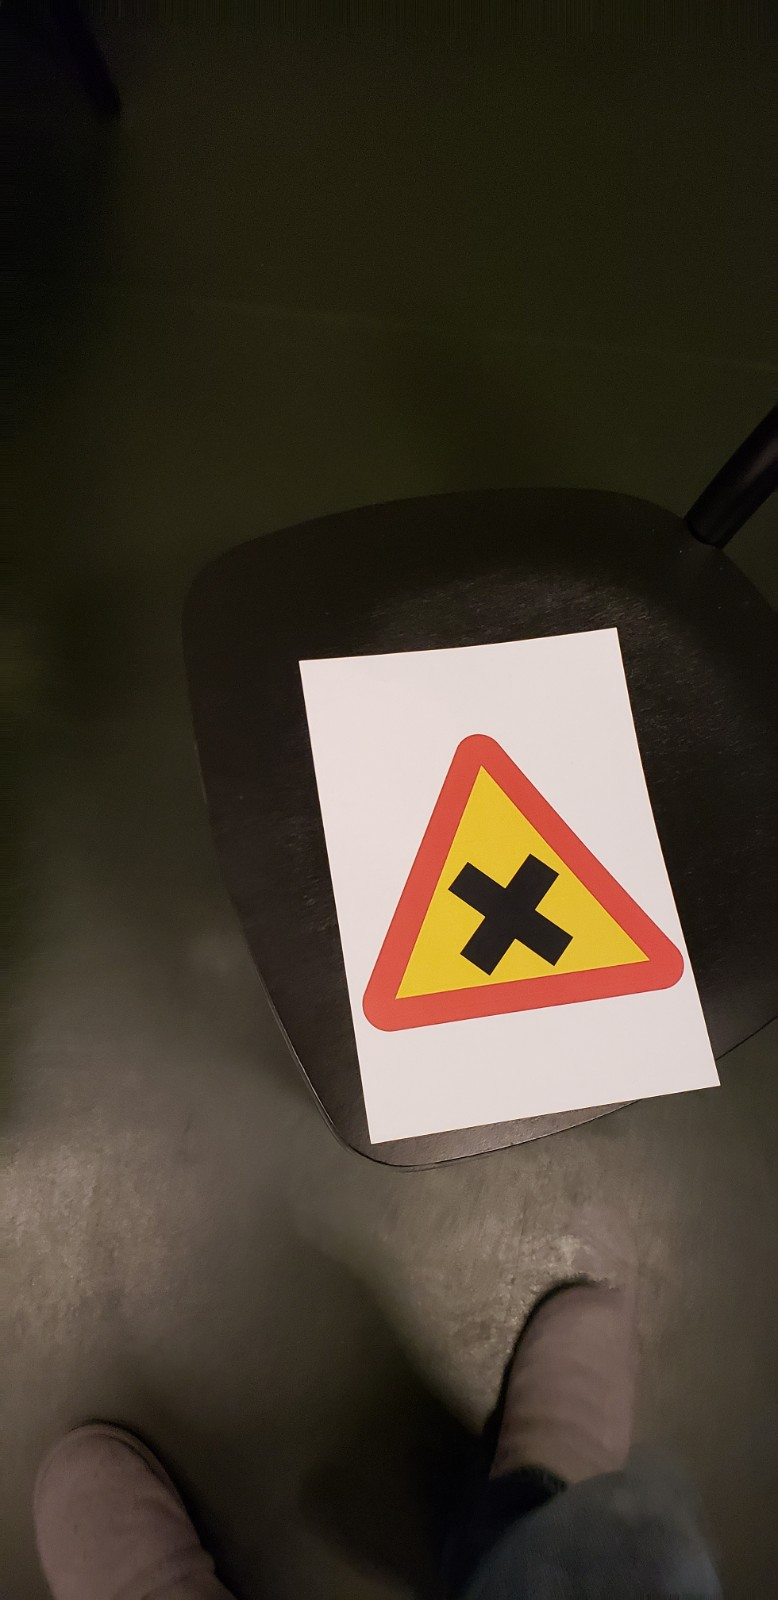junction: (325, 723, 679, 1040)
